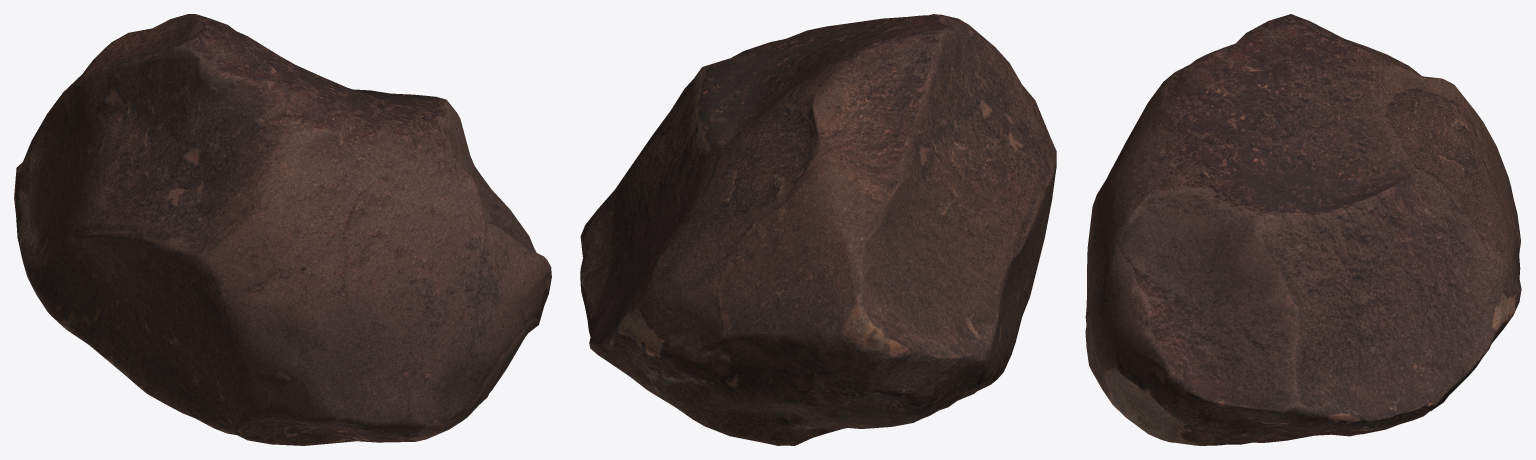
File: SM_ydqnbjj_tier_2.gltf
3 renders of one model, left to right at view 1: azimuth 30°, elevation 25°; view 2: azimuth 150°, elevation 25°; view 3: azimuth 270°, elevation 25°, orthographic. The views are drawn at different scales.
Visible parts, largest first — view 1: ydqnbjj_LOD2_TIER2_000; view 2: ydqnbjj_LOD2_TIER2_000; view 3: ydqnbjj_LOD2_TIER2_000.
Boxes of the visible parts, x1,y1,x2,y2 form: ydqnbjj_LOD2_TIER2_000: [14, 14, 551, 445]; ydqnbjj_LOD2_TIER2_000: [580, 14, 1056, 445]; ydqnbjj_LOD2_TIER2_000: [1085, 14, 1521, 445].
Size of the model in its own units: 0.821 by 0.6868 by 0.7797.
Materials: 1 (1 with a texture image).
